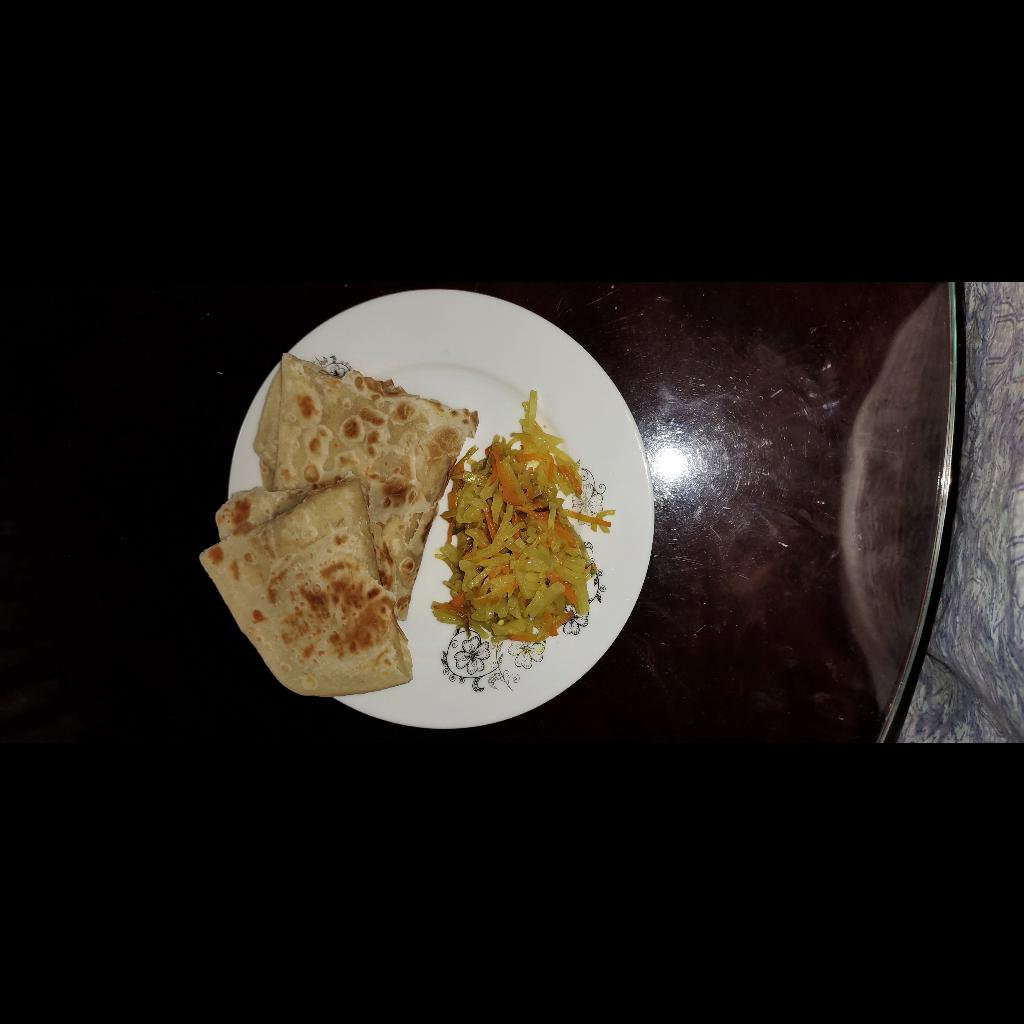khichuri: (96, 716, 353, 893)
ruti: (39, 478, 392, 761)
